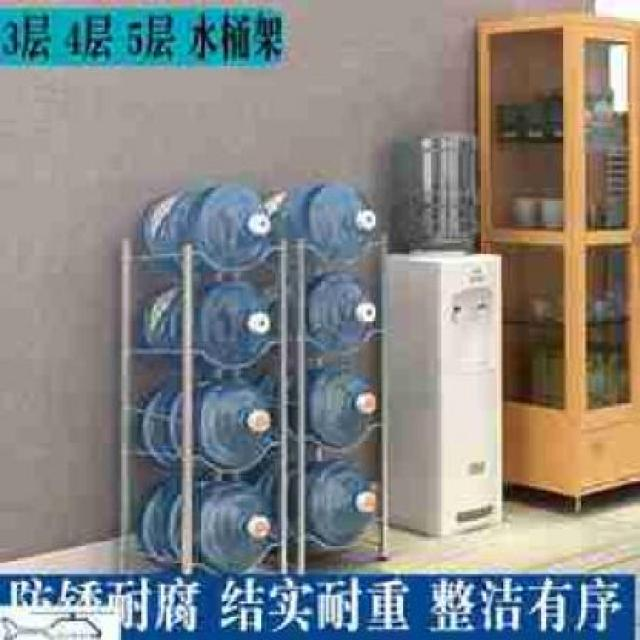coolerbottle: (134, 377, 278, 475), (385, 126, 489, 255), (137, 274, 275, 366), (135, 484, 278, 572), (135, 178, 270, 271)
